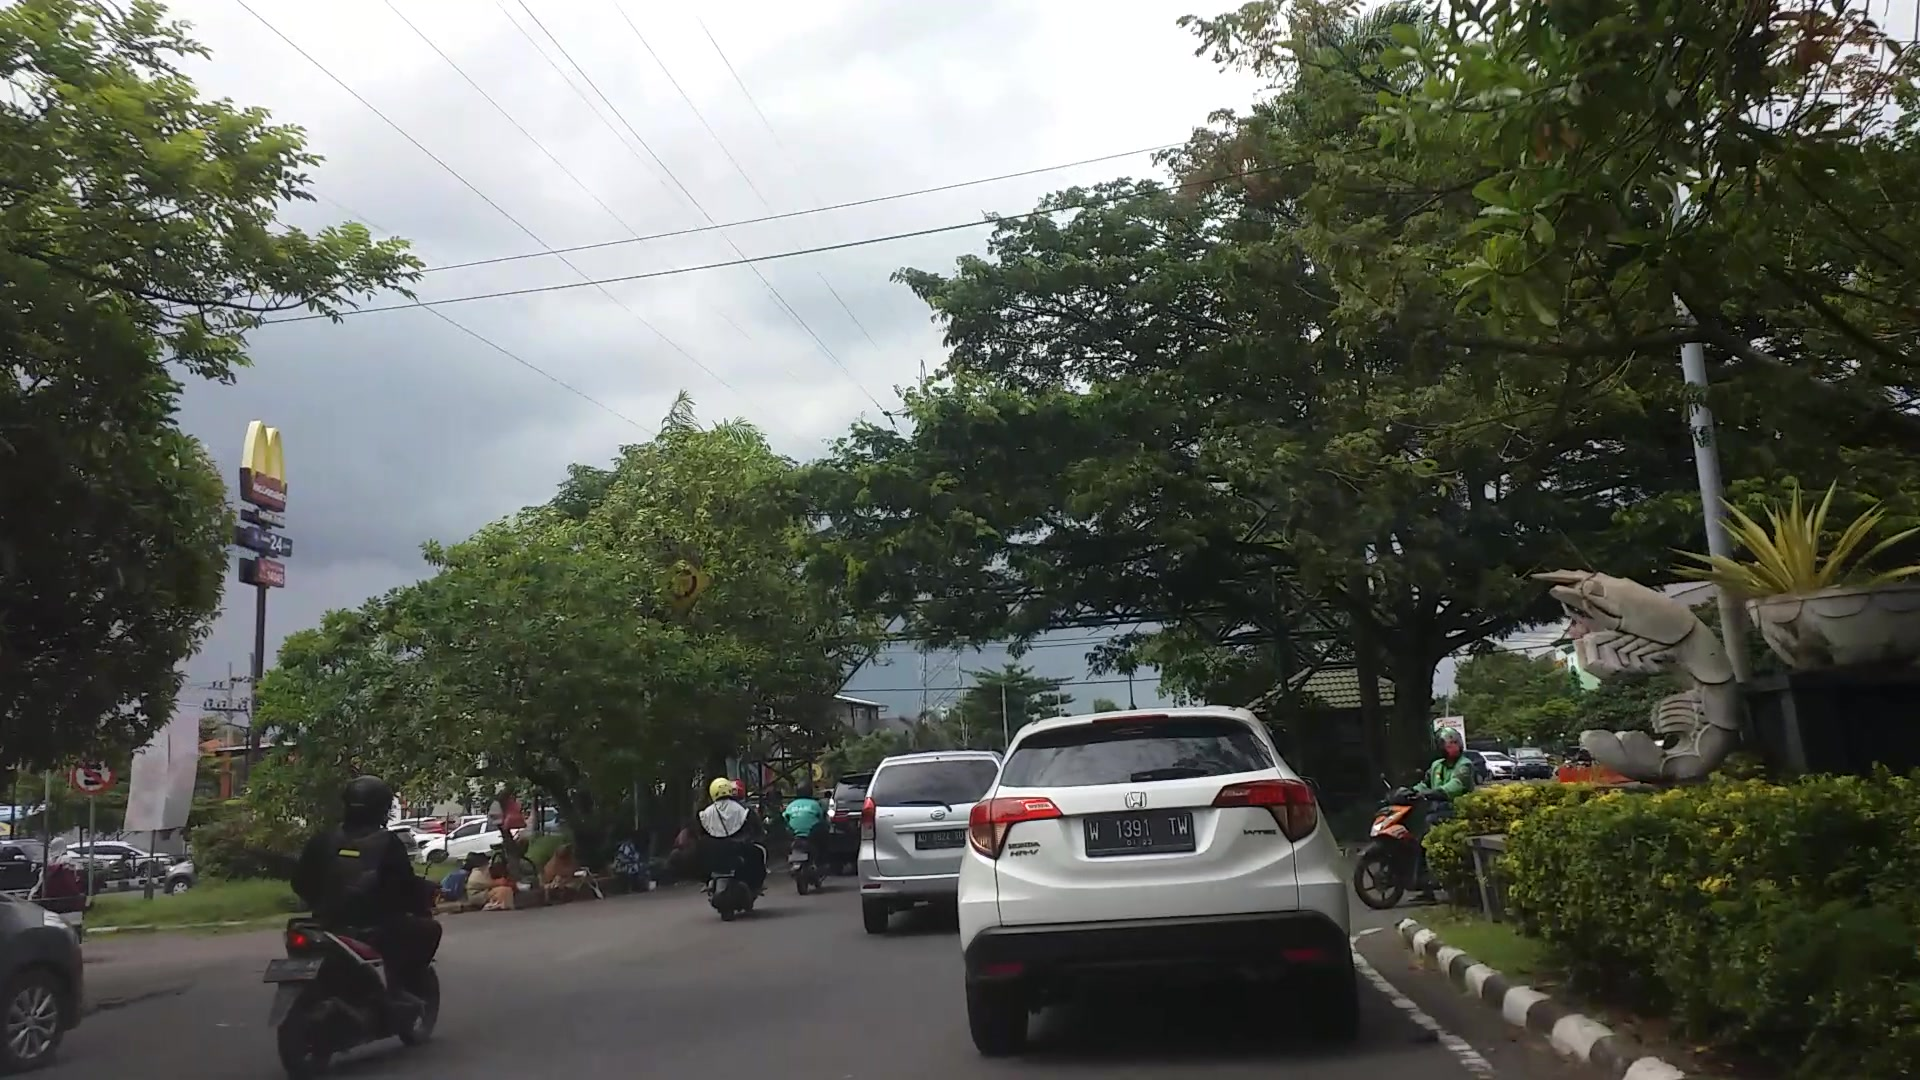plate_positive: (1084, 815, 1196, 855)
